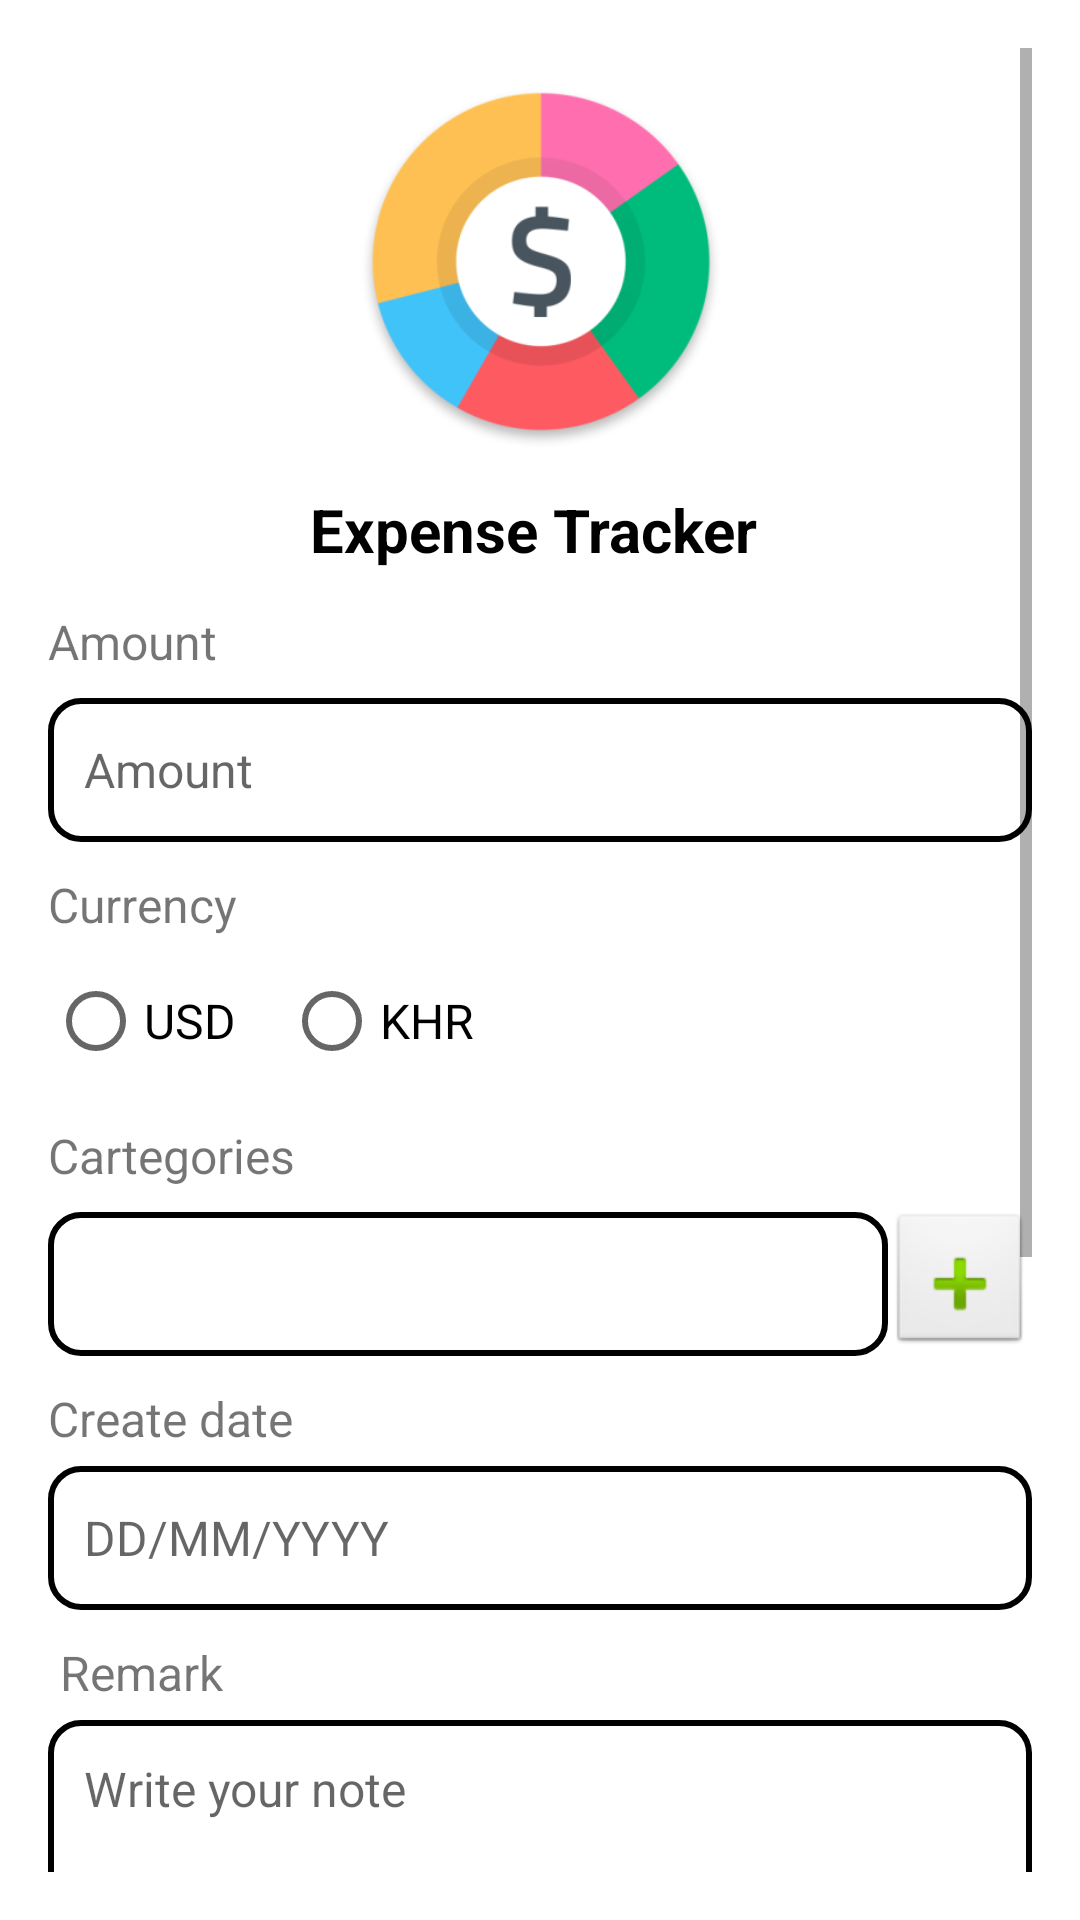

Locate icon controls on the screen. Image size 1080 x 1920, boxes as box(x1, y1, x2, y2).
Add New Category: box(896, 1212, 1032, 1344)
